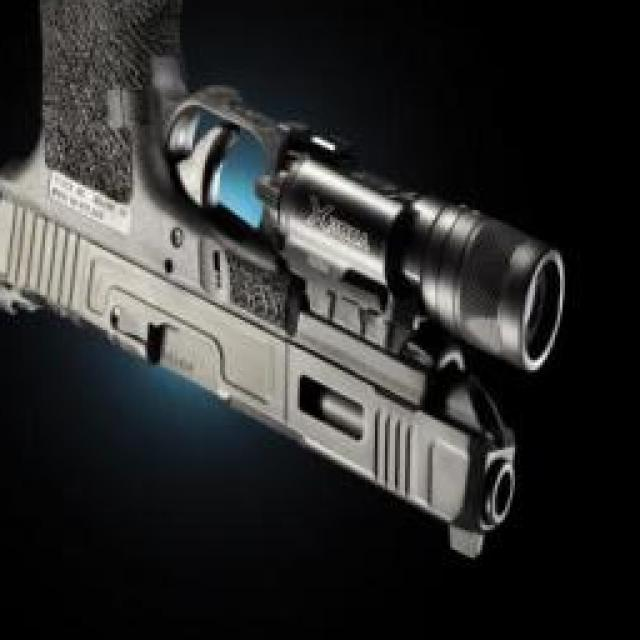pistol: (0, 0, 565, 560)
